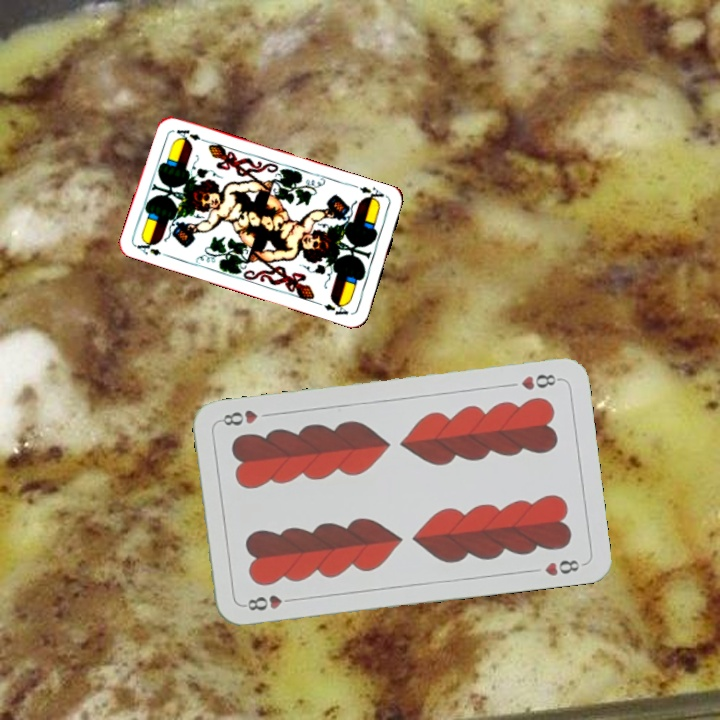EA: (132, 236, 172, 260), (350, 181, 387, 205)
H8: (239, 591, 298, 613), (517, 370, 563, 393)
